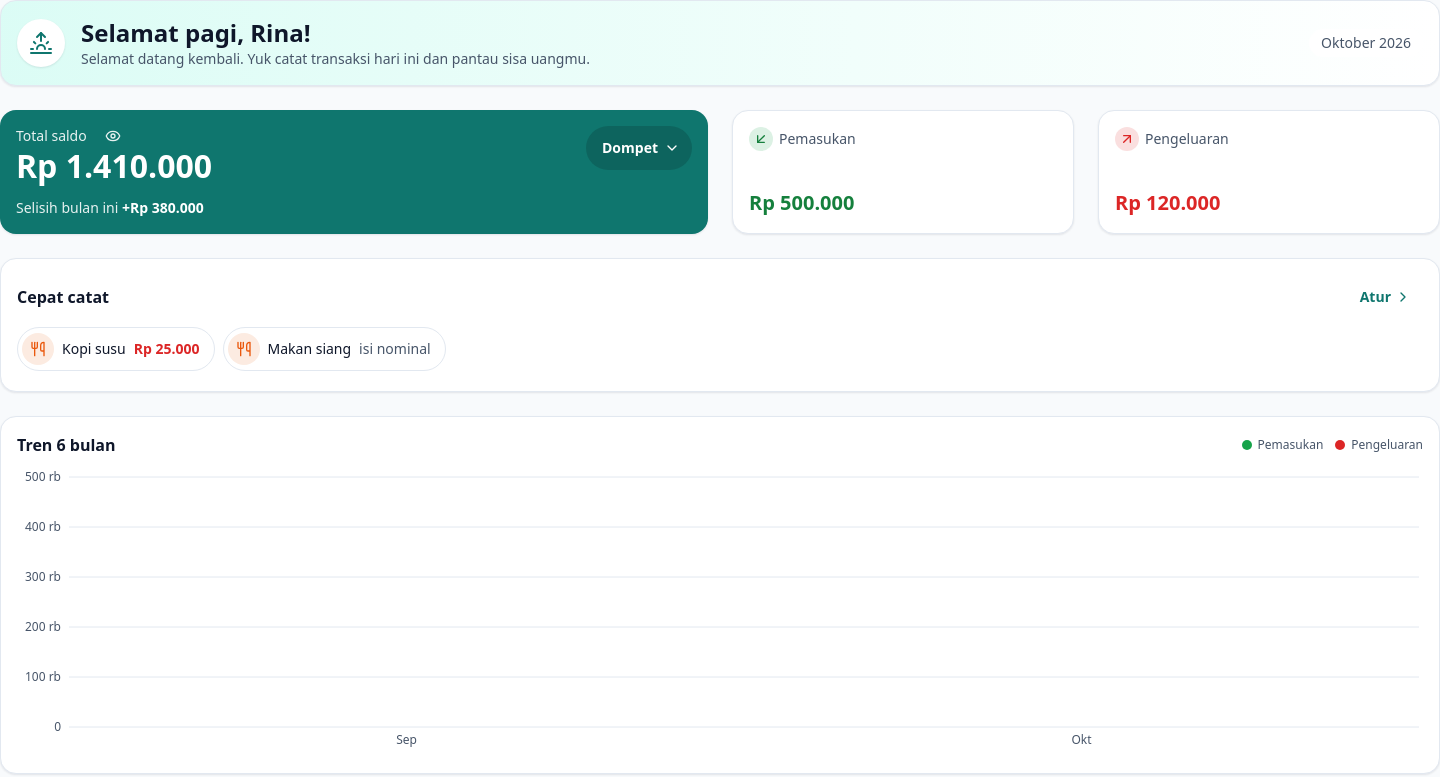
Scenario: HomePage (dashboard) › template tanpa nominal membuka form yang sudah terisi
Click the button "Makan siang isi nominal". click: (334, 349)
box: [222,327,446,371]
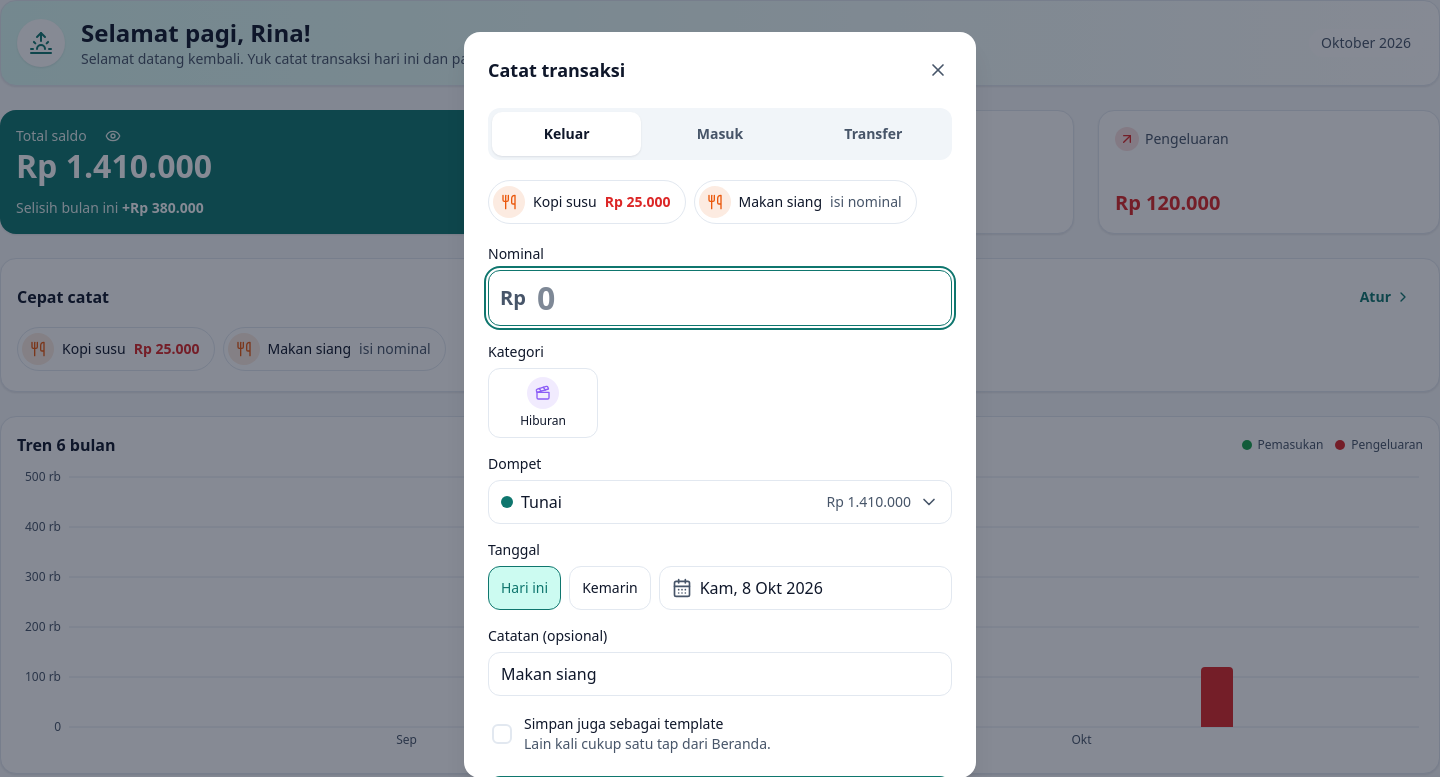
Expected: the text box labelled "Catatan (opsional)" holds "Makan siang", [488,652,952,696]
